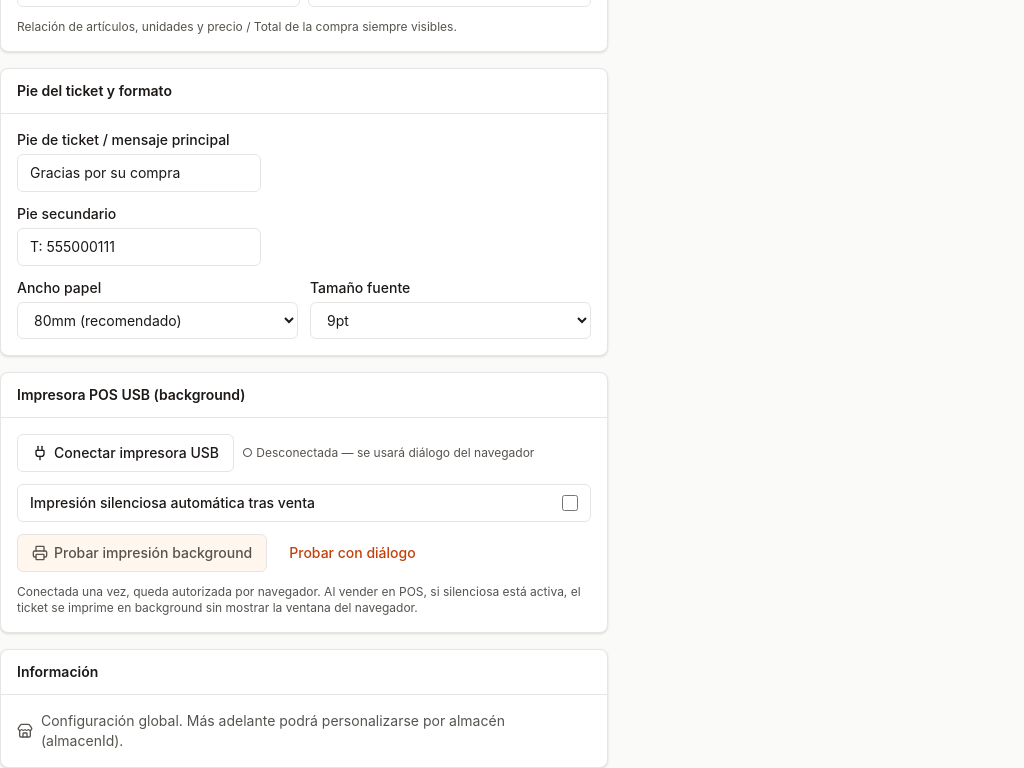
ConfiguracionPage (profundización) › conecta y desconecta la impresora USB cuando Web Serial está soportado
This screenshot has width=1024, height=768.
(page scrolled)
Click the button "Conectar impresora USB" at coordinates (126, 453), box [17,434,234,472]
(page scrolled)
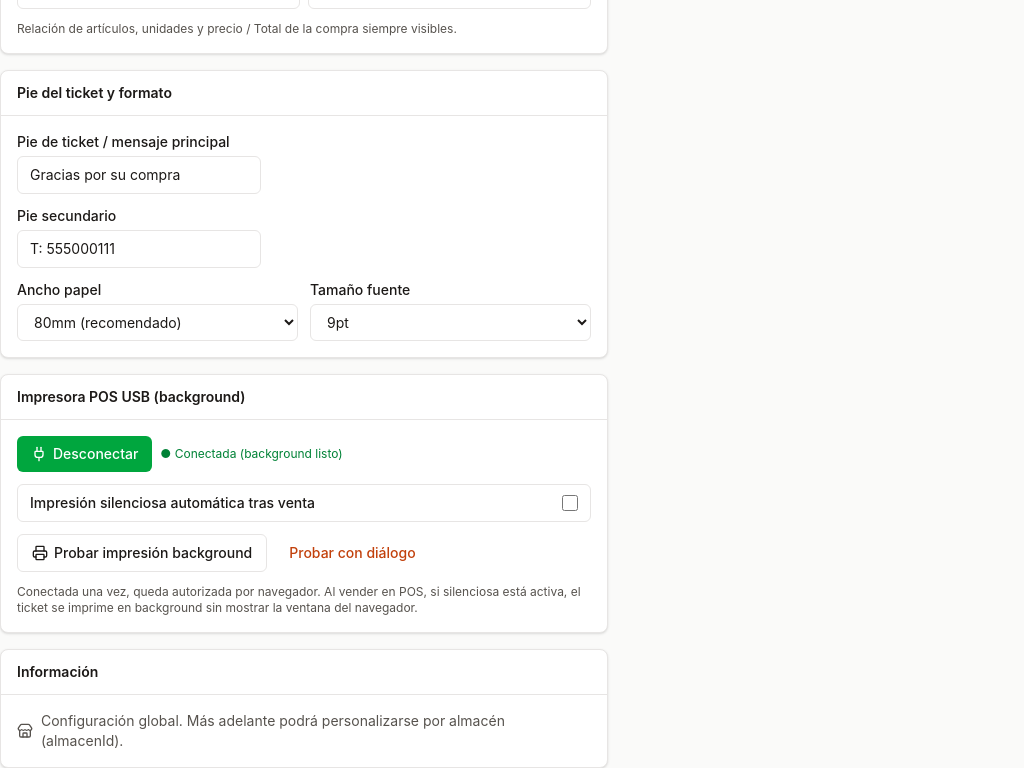
expect the text "● Conectada (background listo)" is shown: met, box [160,446,343,462]
Click the button "Desconectar" at coordinates (85, 454), box [17,436,152,472]
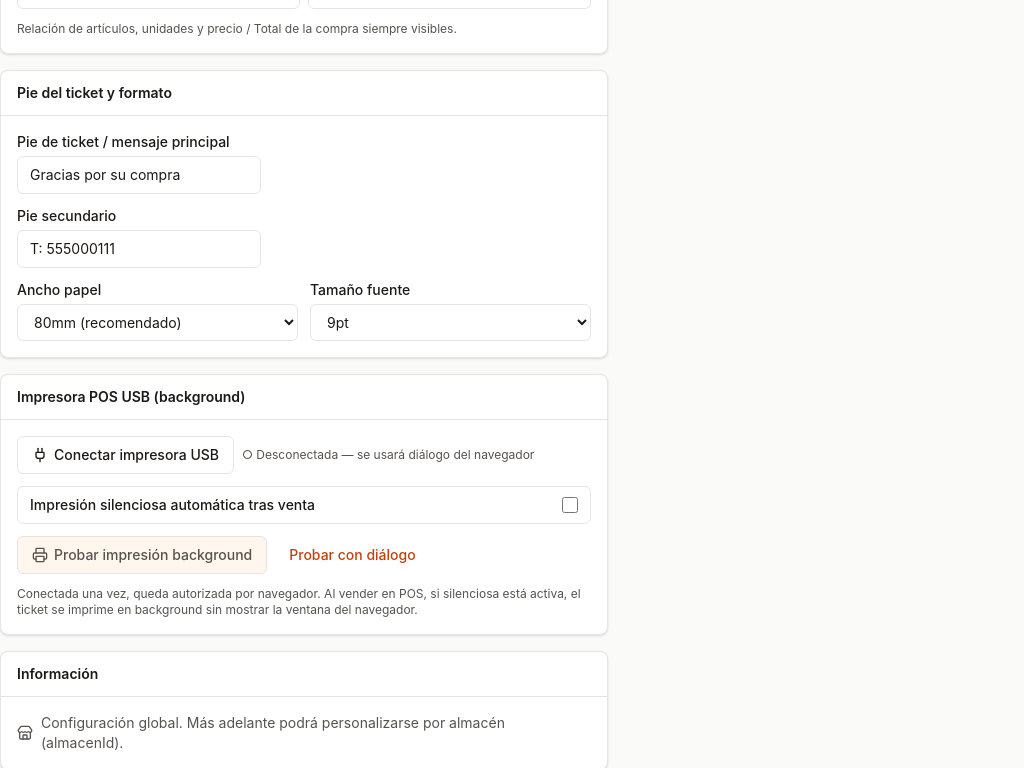
expect the text "○ Desconectada — se usará diálogo del navegador" is shown: met, box [242,447,534,463]
